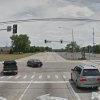Crosswalk: (2, 73, 65, 86)
